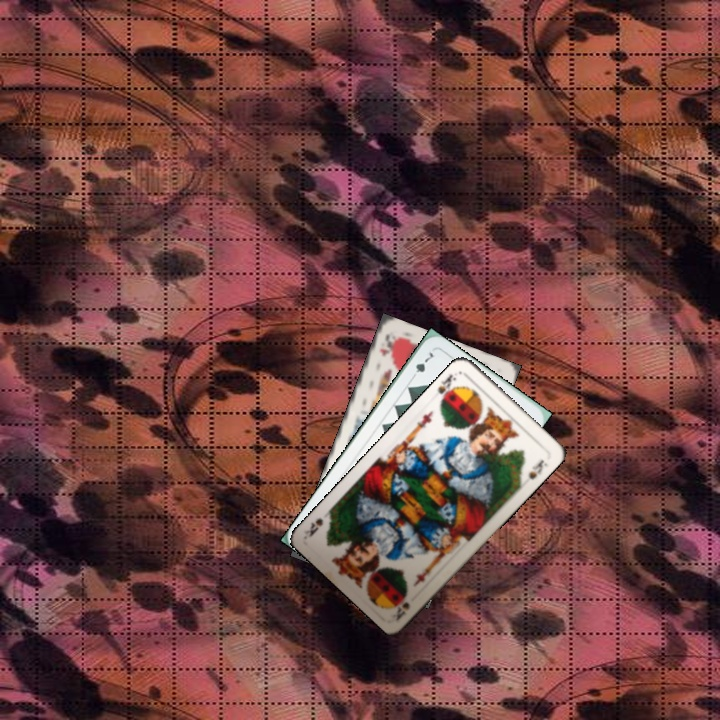G7: (407, 348, 436, 382)
HK: (376, 330, 397, 359)
SK: (433, 370, 460, 404), (389, 598, 412, 622)
